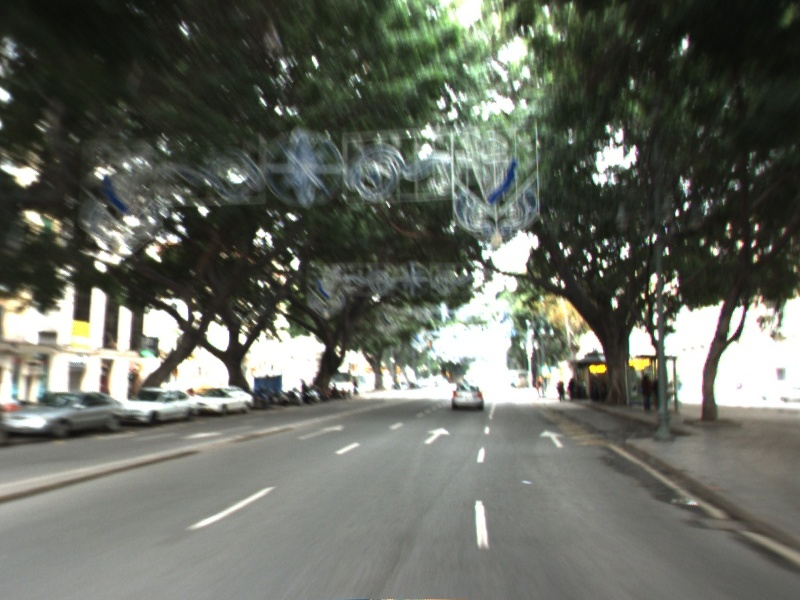STRAIGHT: (295, 422, 348, 442), (537, 427, 567, 450), (421, 425, 452, 446)
